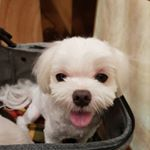puppy: (29, 33, 133, 147)
